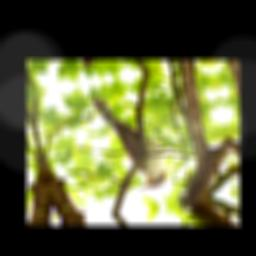Cuckoo: (90, 87, 172, 196)
